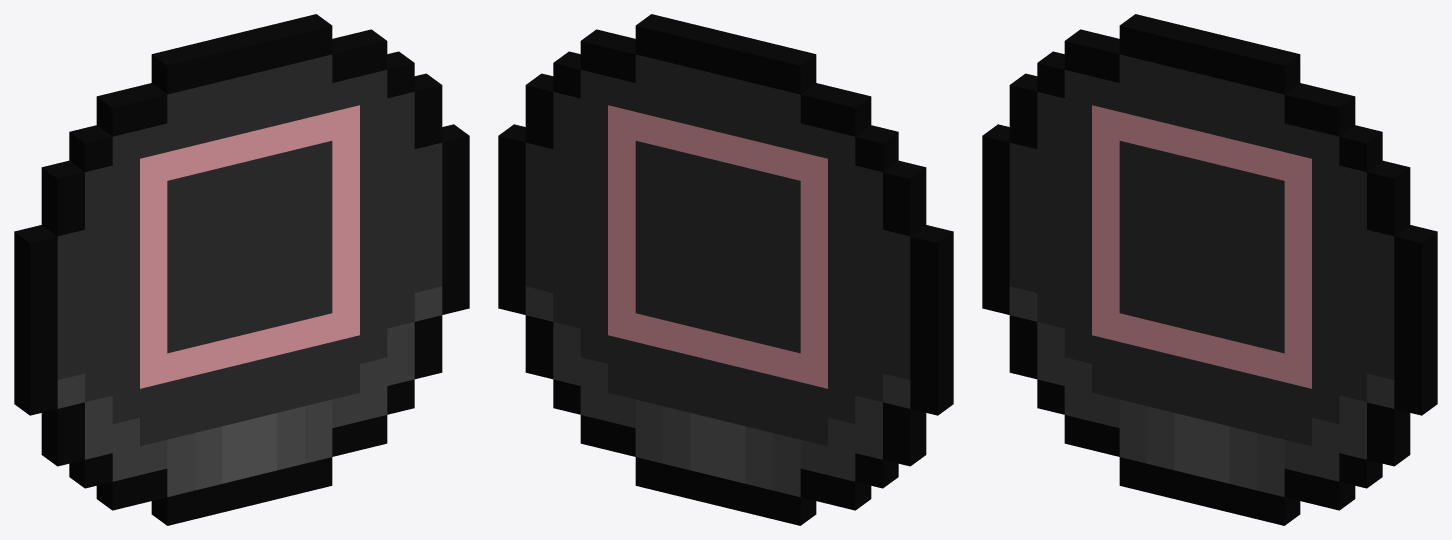
File: ds4_square.obj
3 renders of one model, left to right at view 1: azimuth 30°, elevation 25°; view 2: azimuth 150°, elevation 25°; view 3: azimuth 330°, elevation 25°, orthographic.
Bounding box in the file's own units: 1.6 × 1.6 × 0.1.
Materials: 1 (1 with a texture image).
